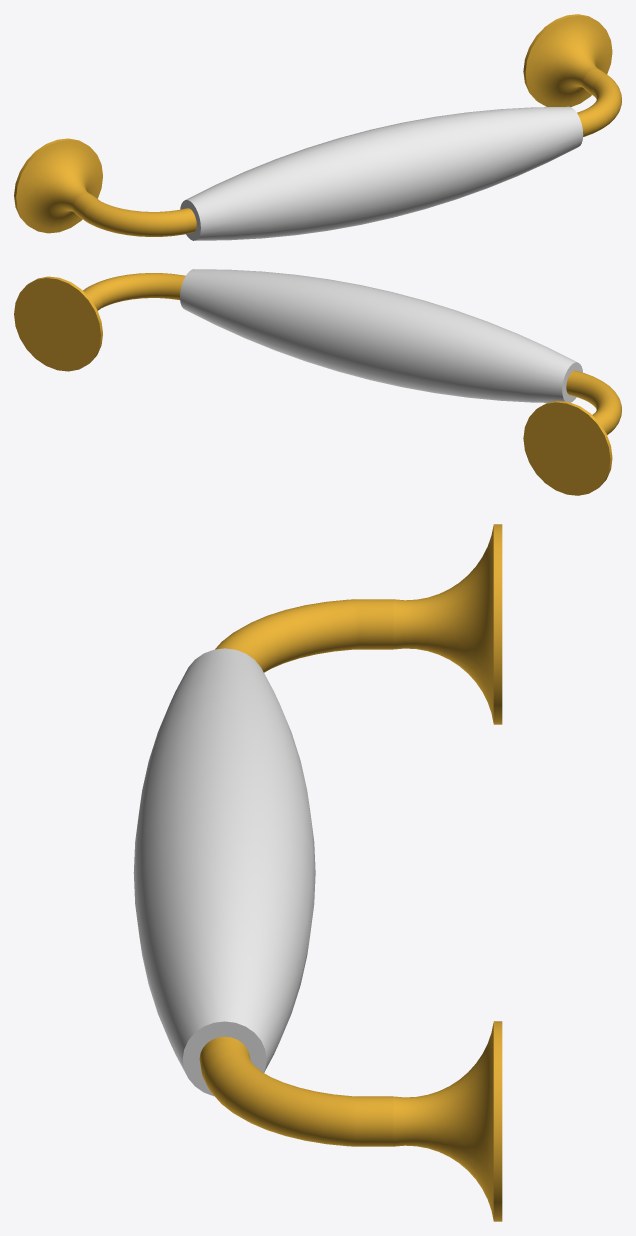
The model's file is furniture_handle_1.glb.
3 views of the same model, one above another, from view 1: azimuth 30°, elevation 25°; view 2: azimuth 150°, elevation 25°; view 3: azimuth 270°, elevation 25° (orthographic). The views are drawn at different scales.
Visible parts, largest first — view 1: ID27_1, ID27; view 2: ID27_1, ID27; view 3: ID27_1, ID27.
Boxes of the visible parts, bbox=[...] form: ID27_1: bbox=[180, 106, 583, 240]; ID27: bbox=[14, 14, 621, 236]; ID27_1: bbox=[180, 269, 582, 402]; ID27: bbox=[14, 273, 621, 495]; ID27_1: bbox=[133, 648, 315, 1096]; ID27: bbox=[199, 524, 502, 1221].
Bounding box in the file's own units: 0.1639 × 0.0239 × 0.0438.
